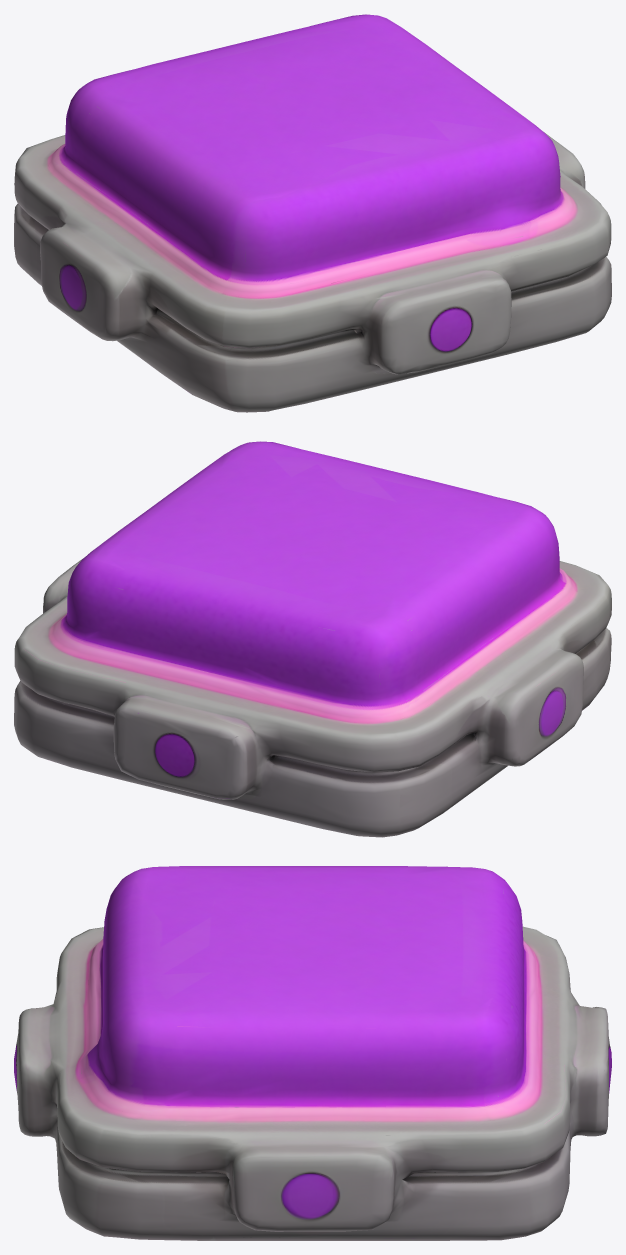
File: Wall_texture.fbx
3 views of the same model, one above another, from view 1: azimuth 30°, elevation 25°; view 2: azimuth 150°, elevation 25°; view 3: azimuth 270°, elevation 25° (orthographic). The views are drawn at different scales.
Visible parts, largest first — view 1: Mesh0; view 2: Mesh0; view 3: Mesh0.
Boxes of the visible parts, x1,y1,x2,y2 form: Mesh0: [14, 14, 611, 412]; Mesh0: [14, 441, 611, 837]; Mesh0: [14, 866, 611, 1240].
Size of the model in its own units: 191 by 77.48 by 192.
1 material, 1 textured.
